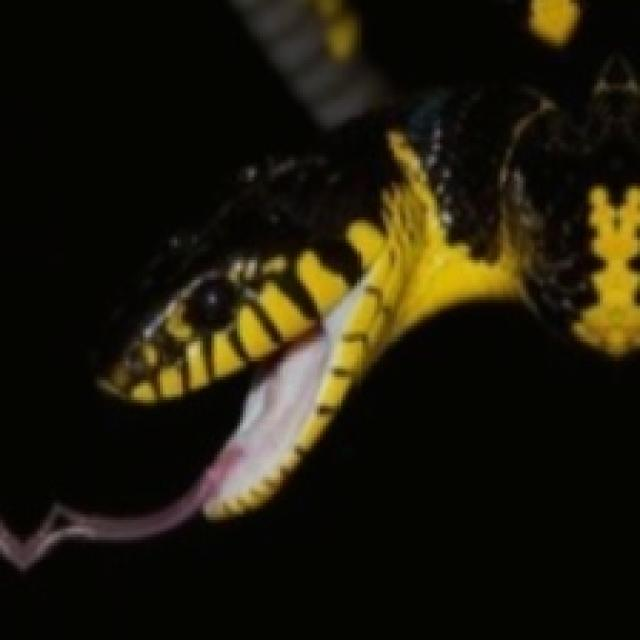mangrove cat snake: (66, 0, 637, 537)
